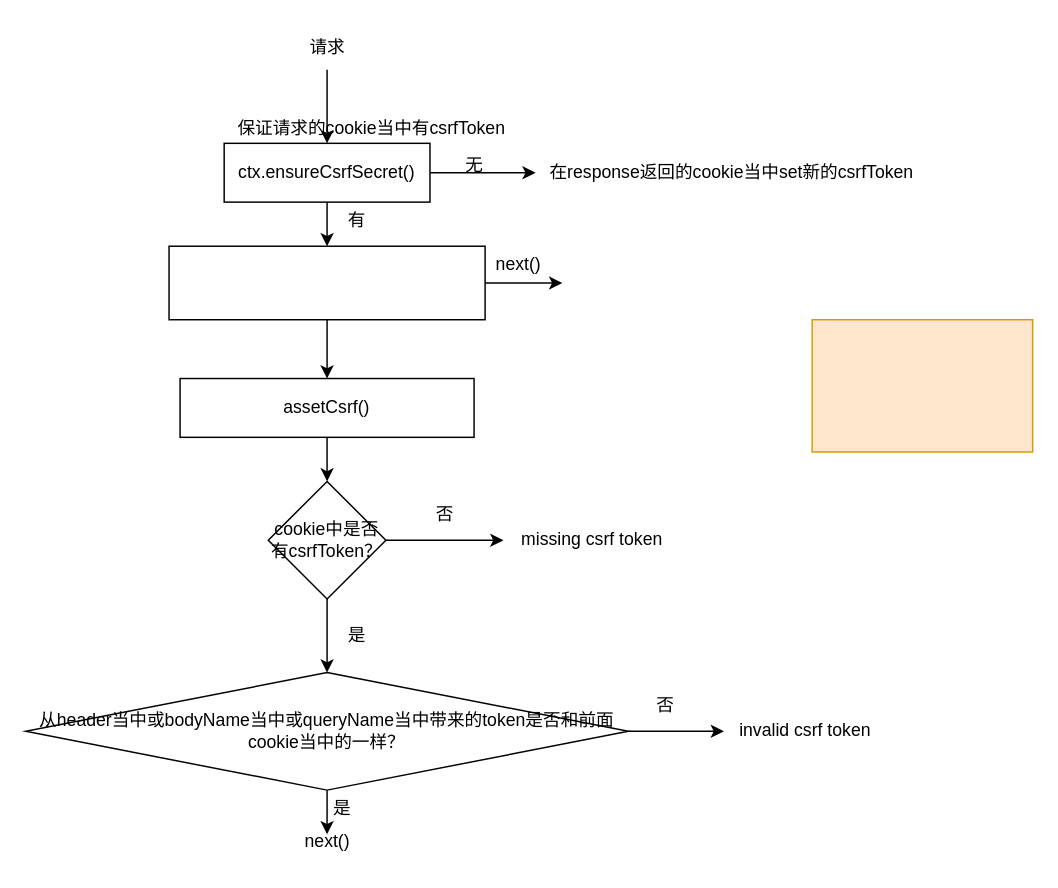
This 1058x888 diagram has some shape labels left out. Here are the shapes that lost their labels. From the top down, the centre of each, then its label:
the point at 326,282: 默认支持的方法(post,patch,delete,put,connect,可以把get加进去)
the point at 922,385: 如果浏览器禁止cookie的话也可以用session来做，把csrfToken存在session里，在某一个接口返回中返回该字段，让用户自行保存
